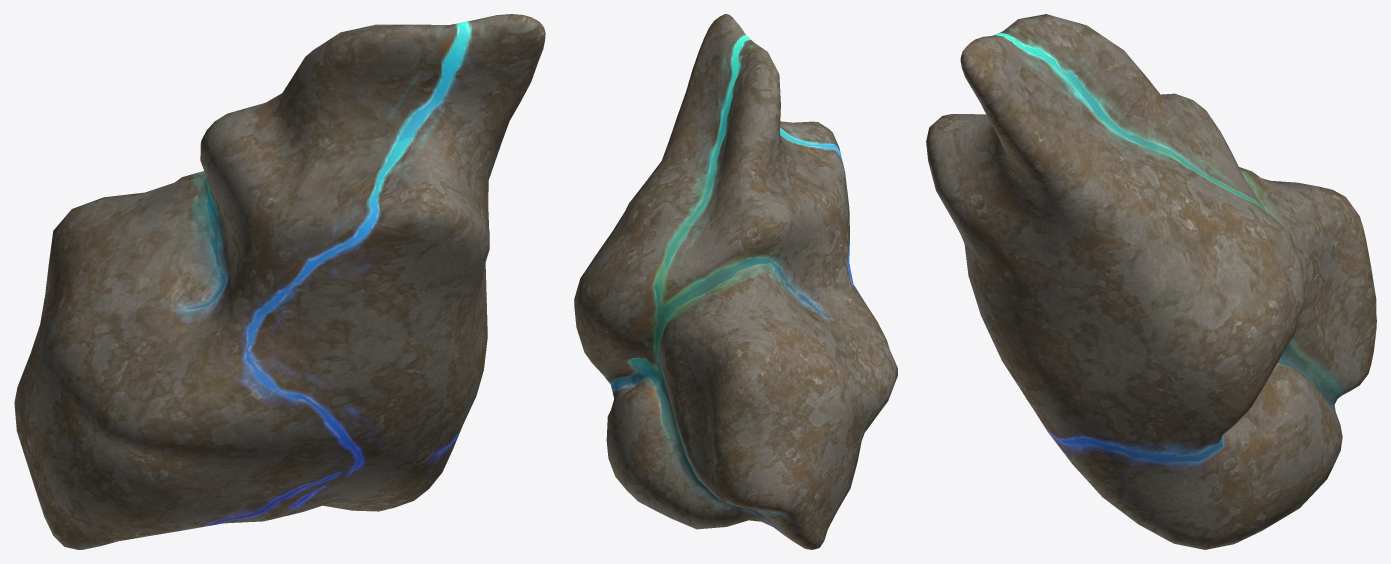
The model's file is meteor.glb.
3 views of the same model, side by side, from view 1: azimuth 30°, elevation 25°; view 2: azimuth 150°, elevation 25°; view 3: azimuth 270°, elevation 25° (orthographic). The views are drawn at different scales.
Parts seen in each view (by area): view 1: BigRock_LP; view 2: BigRock_LP; view 3: BigRock_LP.
Part boxes in pixels (x1,y1,x2,y2): BigRock_LP: (14, 14, 545, 549); BigRock_LP: (574, 14, 897, 549); BigRock_LP: (926, 14, 1376, 549).
Size of the model in its own units: 1.36 by 1.87 by 1.49.
1 material, 1 textured.
